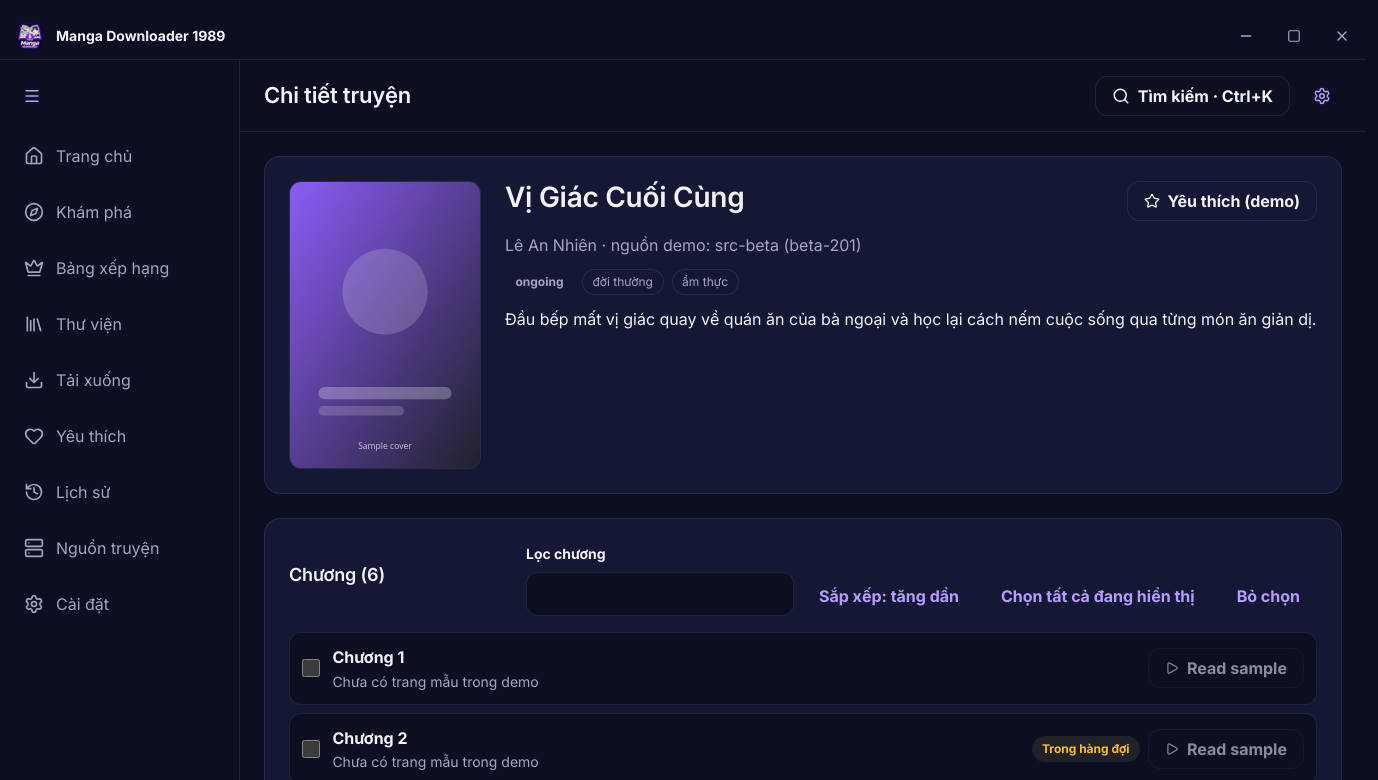
Scenario: T03-05/T03-06 demo detail, queue, favorites and local boundary › demo favorite toggles in demo sandbox; Favorites page is Local-only (Phase 04 boundary)
Step 1. Click the button "Yêu thích (demo)" → point(1222, 201), box x1=1127 y1=181 x2=1317 y2=221
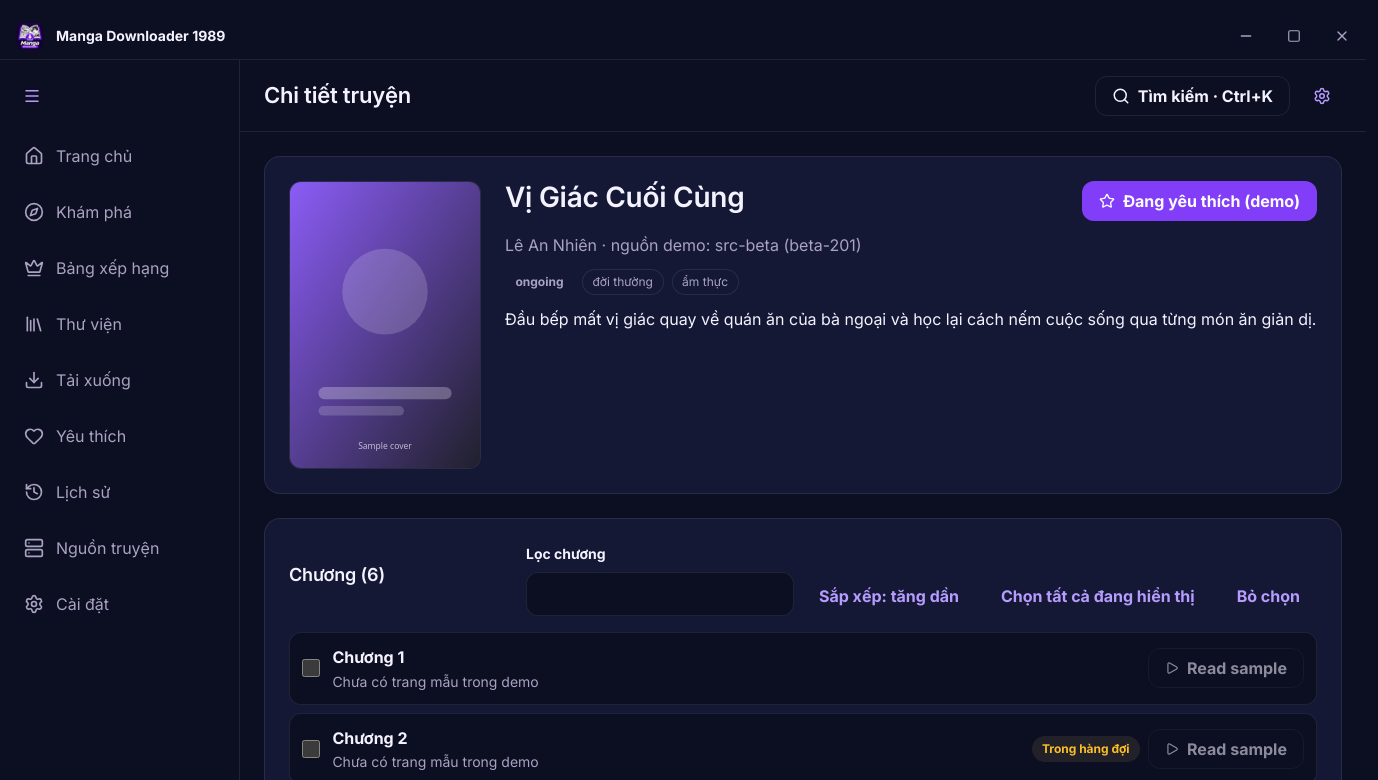
Expected: the button "Đang yêu thích (demo)" is pressed, x1=1082 y1=181 x2=1317 y2=221
Step 2. Click the link "Yêu thích" → point(75, 436), box x1=24 y1=426 x2=126 y2=446
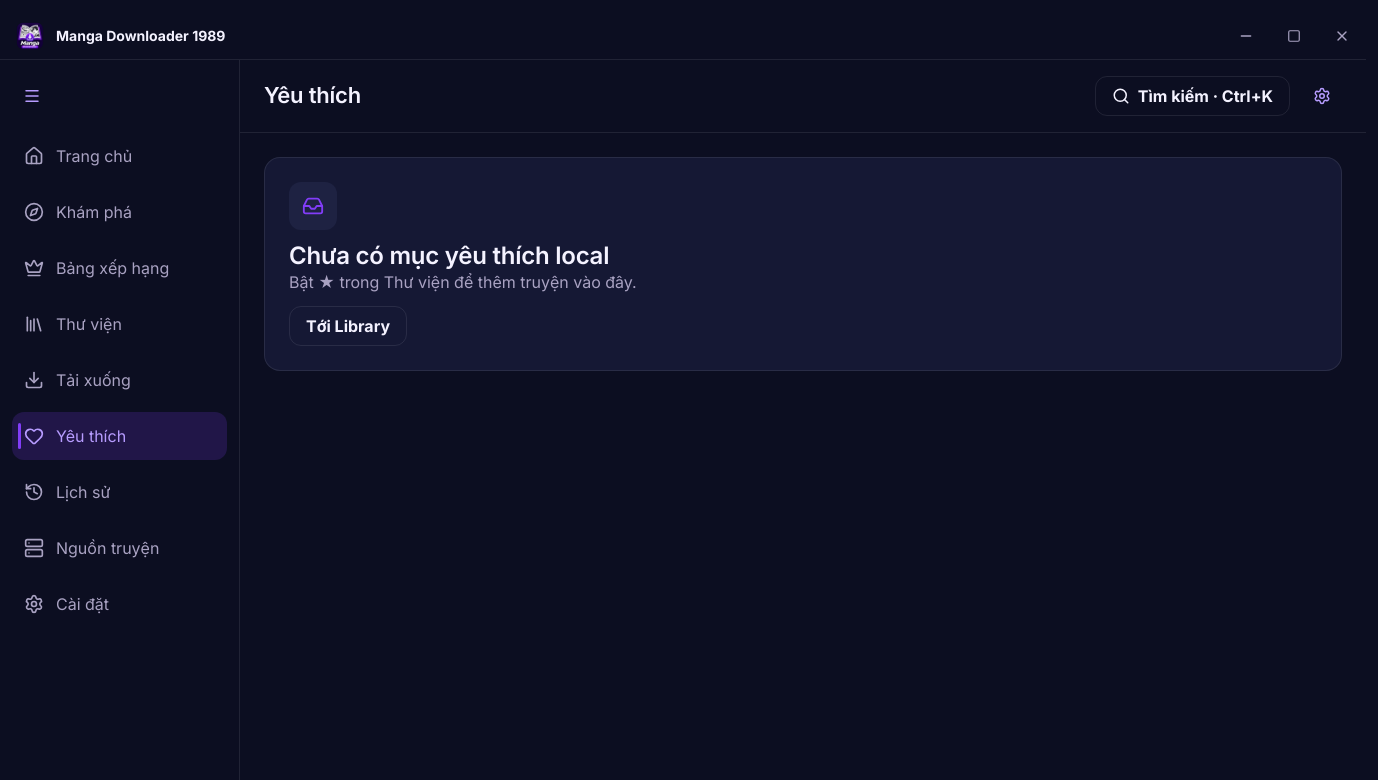
Expected: the heading "Chưa có mục yêu thích local" is shown, x1=289 y1=242 x2=637 y2=270
